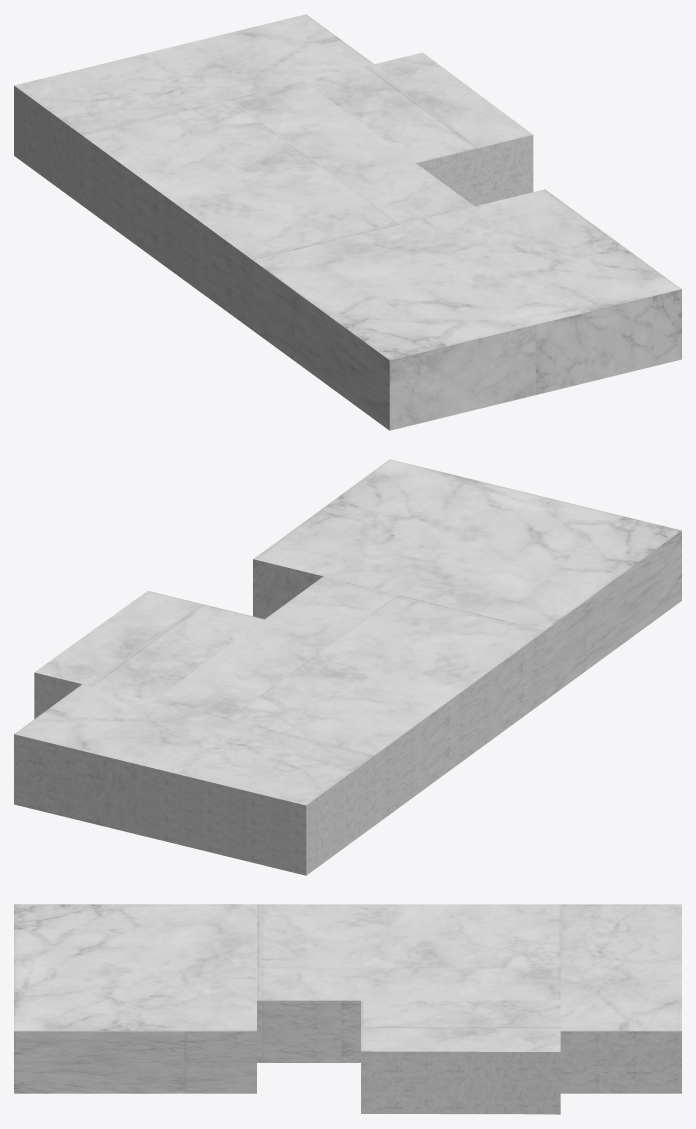
Rendered from map_updated.fbx.
3 views of the same model, one above another, from view 1: azimuth 30°, elevation 25°; view 2: azimuth 150°, elevation 25°; view 3: azimuth 270°, elevation 25° (orthographic). The views are drawn at different scales.
Visible parts, largest first — view 1: Ceiling, Reception, Main Office, Kitchen, Meeting Room; view 2: Ceiling, Meeting Room, Main Office, Reception, Kitchen; view 3: Ceiling, Reception, Kitchen, Meeting Room, Hallway.
Boxes of the visible parts, x1,y1,x2,y2 form: Ceiling: [14, 14, 681, 360]; Reception: [253, 260, 681, 430]; Main Office: [82, 136, 252, 330]; Kitchen: [416, 135, 533, 206]; Meeting Room: [14, 86, 82, 205]; Ceiling: [14, 459, 681, 805]; Meeting Room: [14, 734, 374, 875]; Main Office: [374, 631, 545, 825]; Reception: [253, 531, 681, 700]; Kitchen: [34, 672, 81, 718]; Ceiling: [14, 904, 681, 1051]; Reception: [14, 1031, 256, 1093]; Kitchen: [361, 1051, 560, 1114]; Meeting Room: [560, 1031, 681, 1093]; Hallway: [257, 1000, 360, 1062].
Bounding box in the file's own units: 1151 × 233 × 2200.
